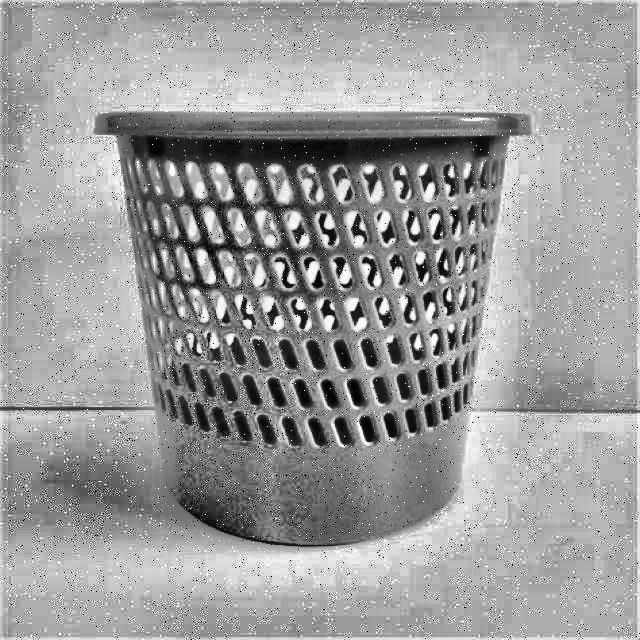Dustbin: (76, 77, 564, 560)
